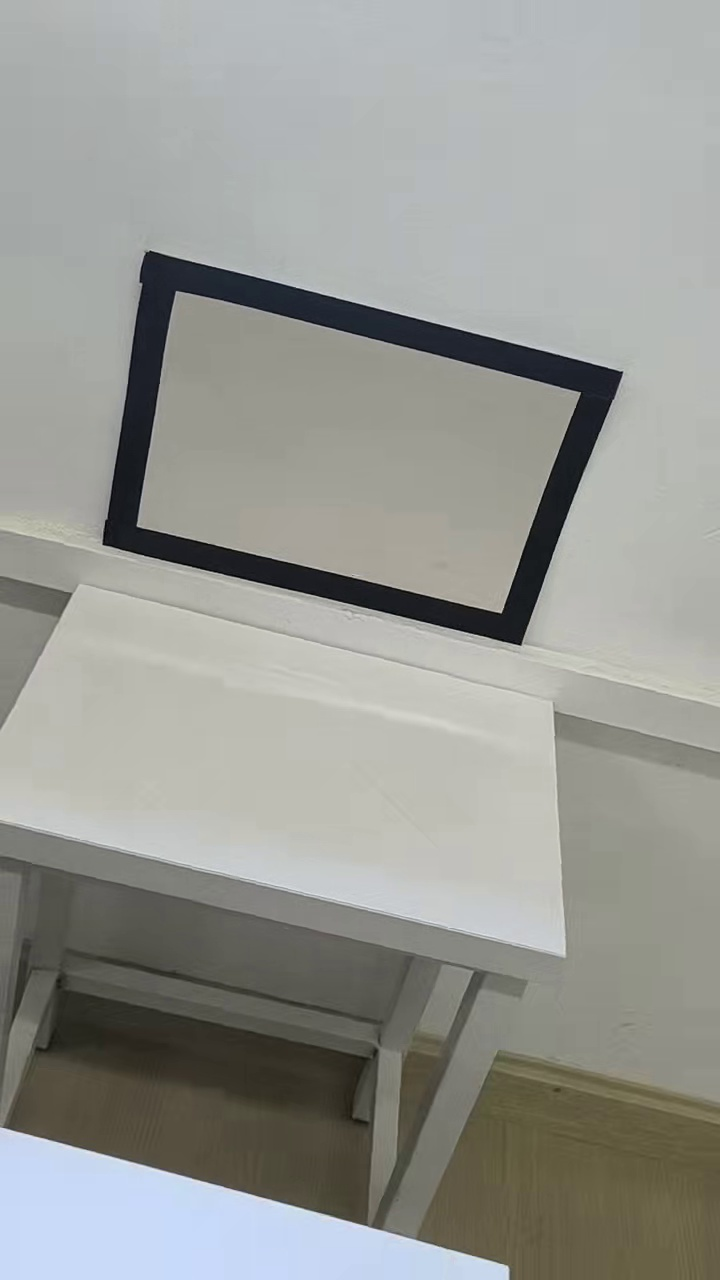board: (109, 249, 622, 645)
